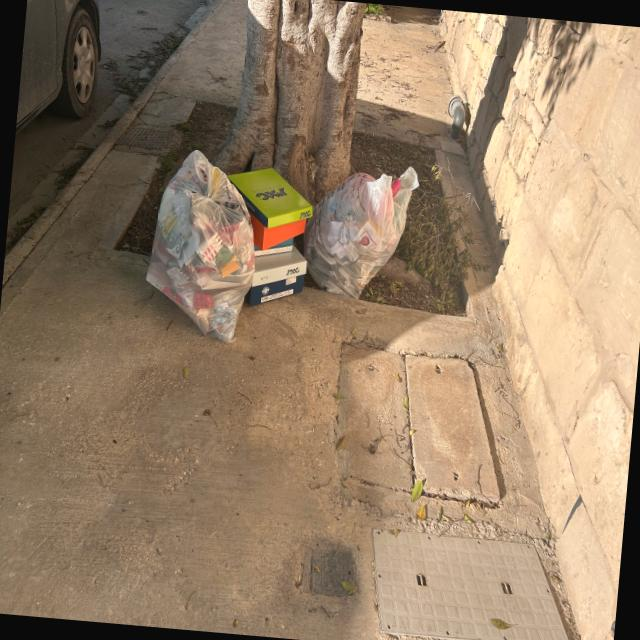grey_bag: (139, 146, 264, 344), (304, 154, 422, 303)
other_waste: (219, 165, 313, 308)
